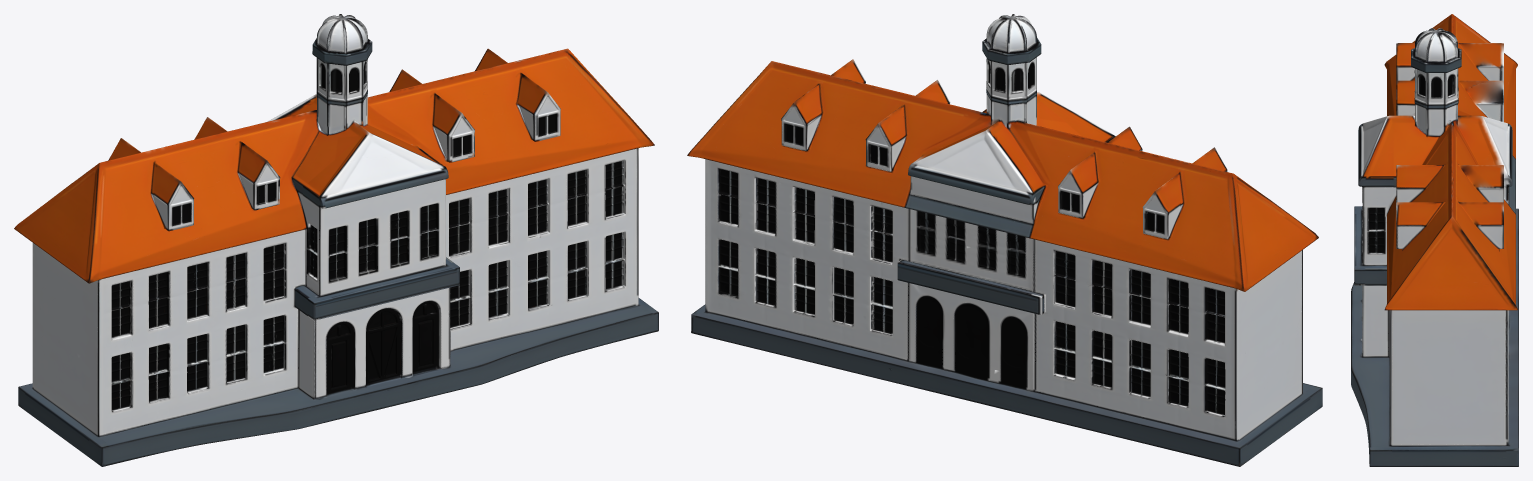
File: museum_fatahillah.glb
3 renders of one model, left to right at view 1: azimuth 30°, elevation 25°; view 2: azimuth 150°, elevation 25°; view 3: azimuth 270°, elevation 25°, orthographic. The views are drawn at different scales.
Parts seen in each view (by area): view 1: convert; view 2: convert; view 3: convert.
Part boxes in pixels (x1=…): convert: x1=14, y1=14, x2=658, y2=466; convert: x1=687, y1=14, x2=1322, y2=466; convert: x1=1351, y1=14, x2=1518, y2=466.
Bounding box in the file's own units: 1.01 × 0.6051 × 0.2927.
1 material, 1 textured.
